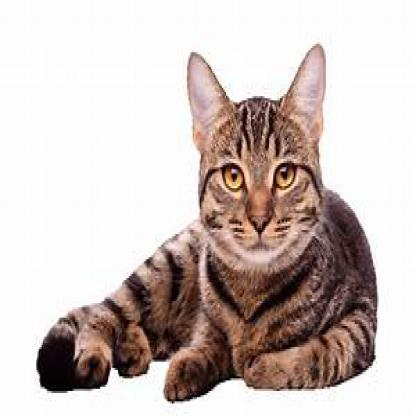cat: (36, 38, 380, 399)
